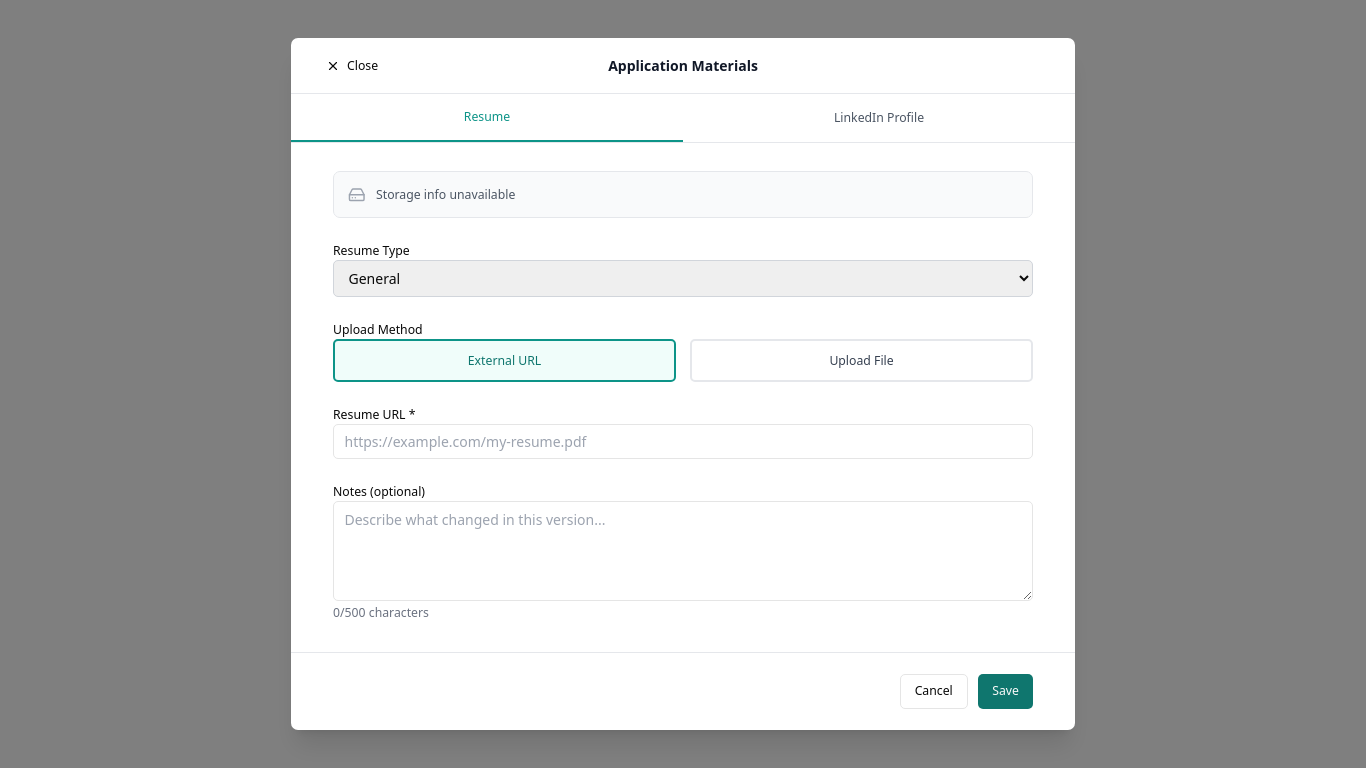
Test: ApplicationMaterialsModal › Validation › should show error for empty custom resume type name
Select "Custom" in the dropdown labelled "Resume Type" at (683, 279), box [333, 260, 1033, 297]
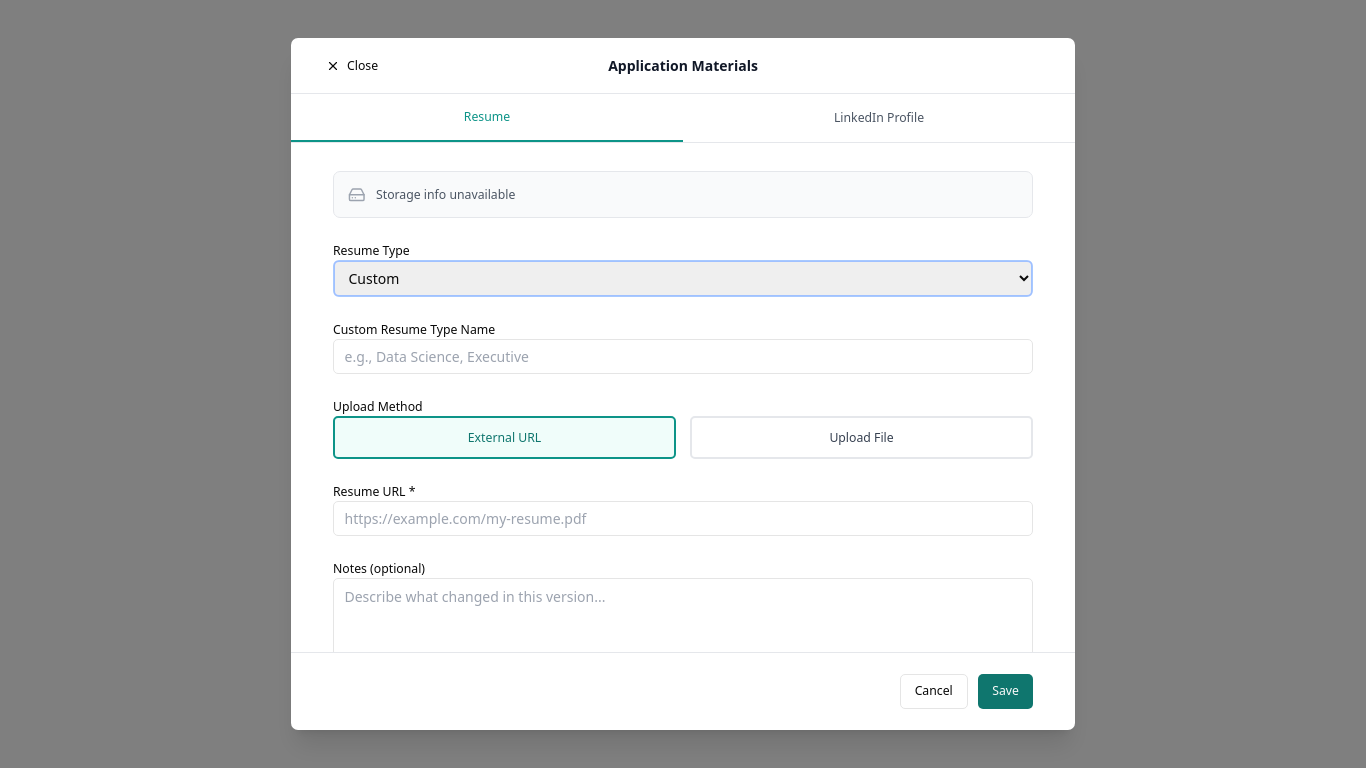
Type "https://example.com/resume.pdf" into the field labelled "Resume URL *" at (683, 518), box [333, 501, 1033, 536]
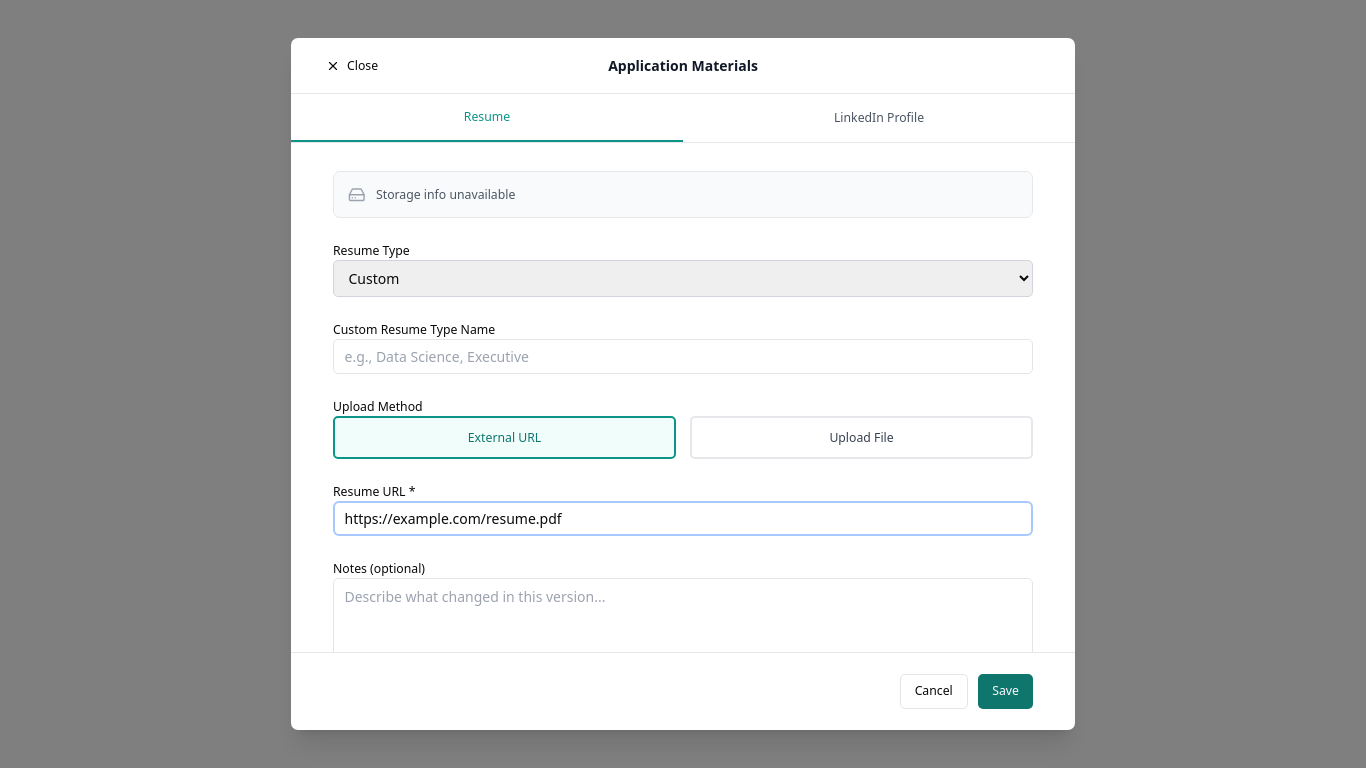
Click the button "Save" at (1006, 691), box [978, 674, 1033, 709]
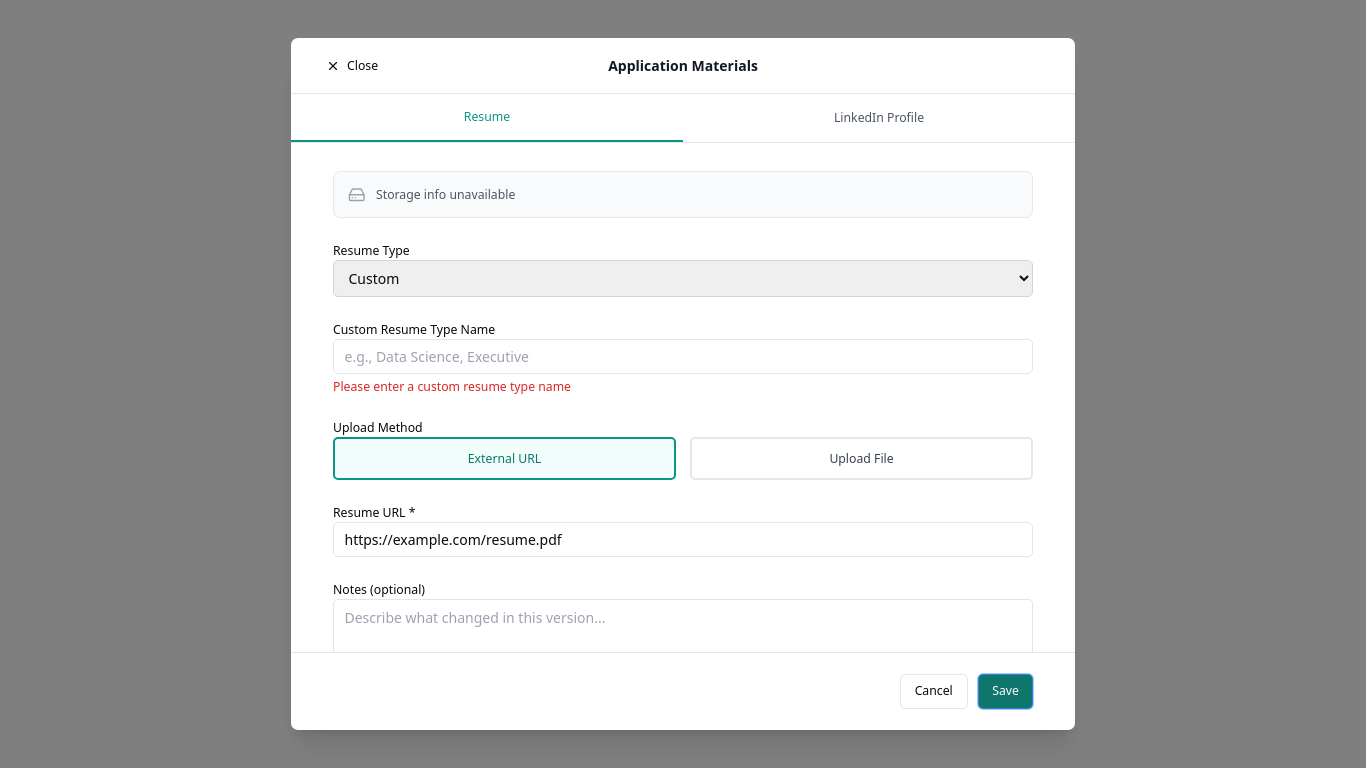
Expected: the text "Please enter a custom resume type name" is shown, [333, 378, 571, 395]
